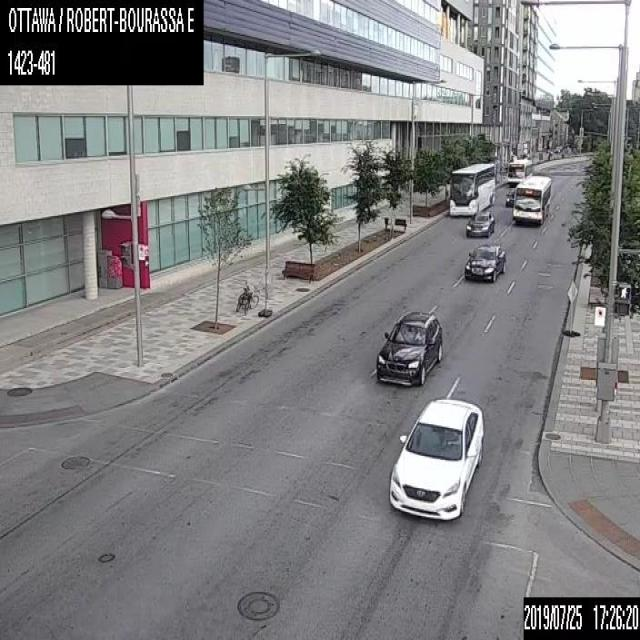bus: (449, 161, 495, 215), (512, 173, 551, 224), (506, 158, 532, 186)
vehicle: (386, 393, 484, 520), (375, 311, 443, 385), (464, 243, 506, 281), (465, 210, 494, 237), (505, 188, 515, 206)
